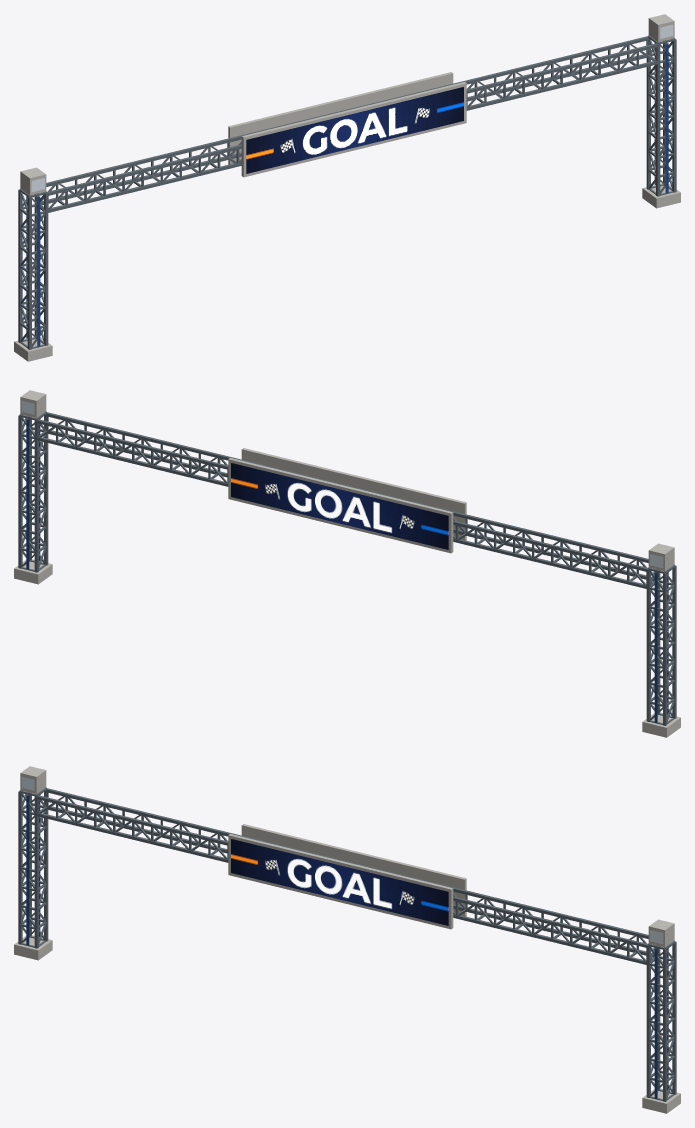
The model's file is aiquiz_stadium_goal_gate.glb.
The picture shows the model from 3 angles, top to bottom: view 1: azimuth 30°, elevation 25°; view 2: azimuth 150°, elevation 25°; view 3: azimuth 330°, elevation 25°; orthographic projection.
Visible parts, largest first — view 1: AQS_GoalGate; view 2: AQS_GoalGate; view 3: AQS_GoalGate.
Part boxes in pixels (left/top/right/bottom): AQS_GoalGate: left=14, top=14, right=680, bottom=361; AQS_GoalGate: left=14, top=390, right=680, bottom=737; AQS_GoalGate: left=14, top=766, right=680, bottom=1113.
Size of the model in its own units: 24 by 6.35 by 0.99.
Materials: 3 (1 with a texture image).
